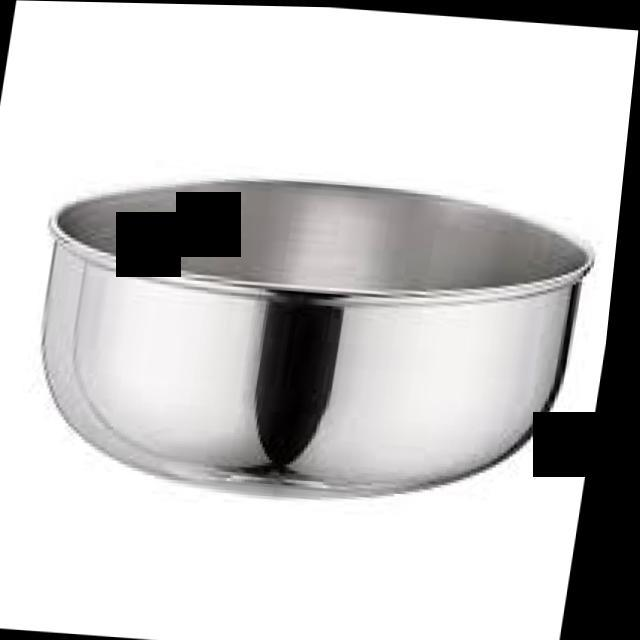Sponge Bowl: (10, 150, 618, 524)
